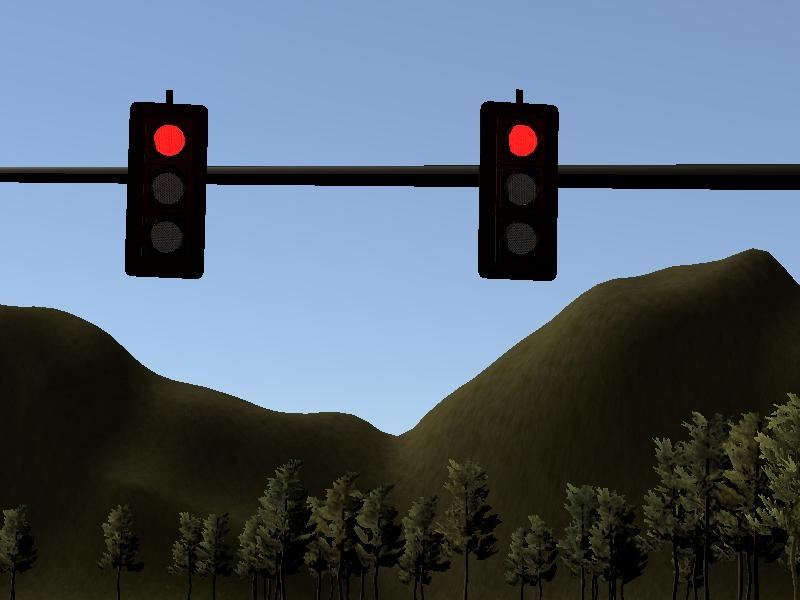red: (474, 91, 565, 288), (125, 93, 211, 286)
